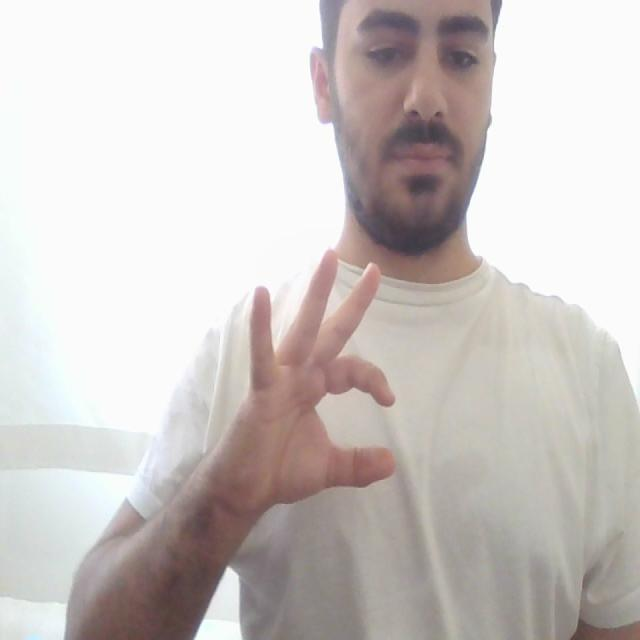Tuvalet: (195, 231, 426, 531)
